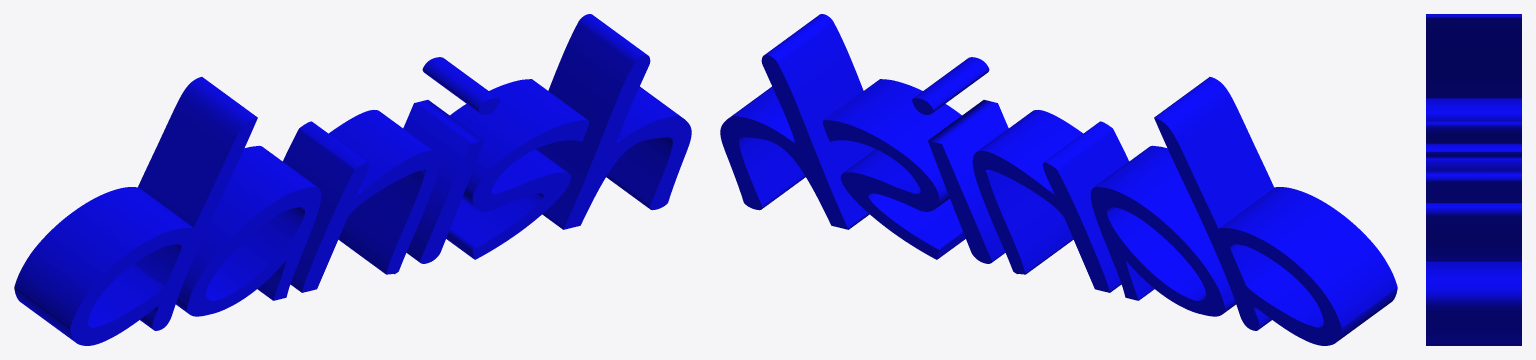
3 renders of one model, left to right at view 1: azimuth 30°, elevation 25°; view 2: azimuth 150°, elevation 25°; view 3: azimuth 270°, elevation 25°, orthographic. The views are drawn at different scales.
Parts seen in each view (by area): view 1: danish; view 2: danish; view 3: danish.
Part boxes in pixels (x1,y1,x2,y2): danish: [14, 14, 691, 345]; danish: [720, 14, 1397, 345]; danish: [1426, 14, 1521, 345].
Bounding box in the file's own units: 2.89 × 0.8661 × 0.45.
